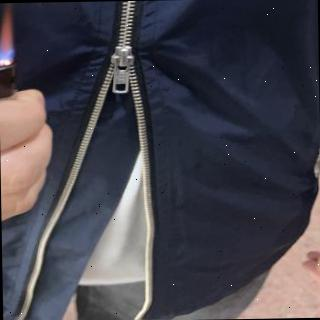fire: (0, 3, 12, 66)
